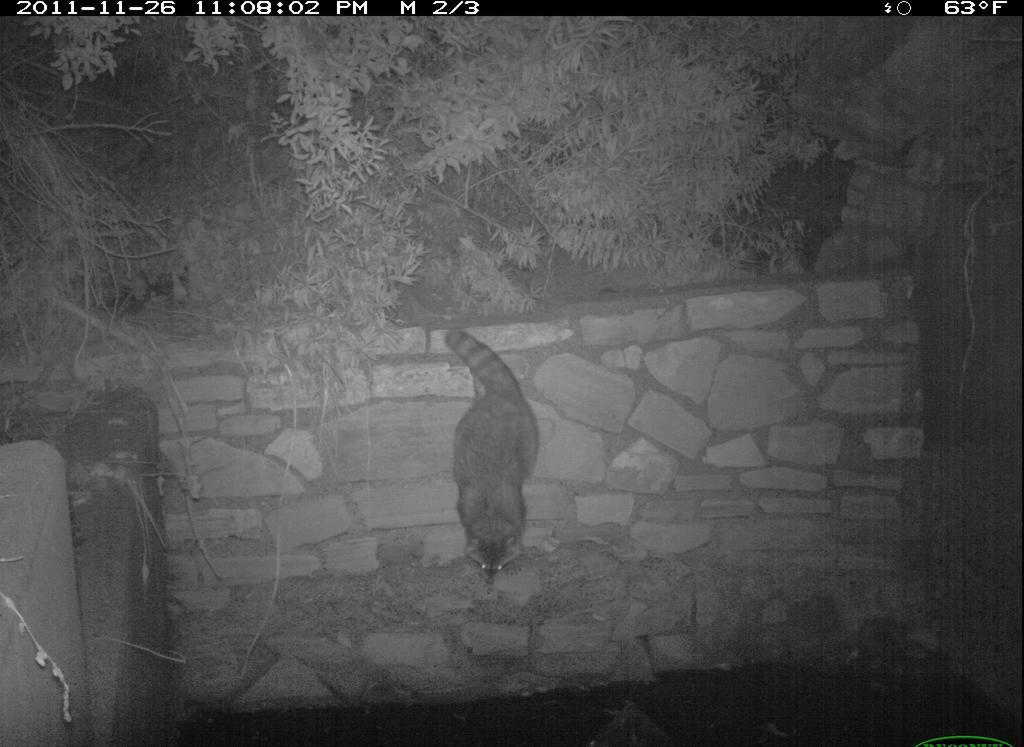raccoon: (437, 326, 545, 591)
